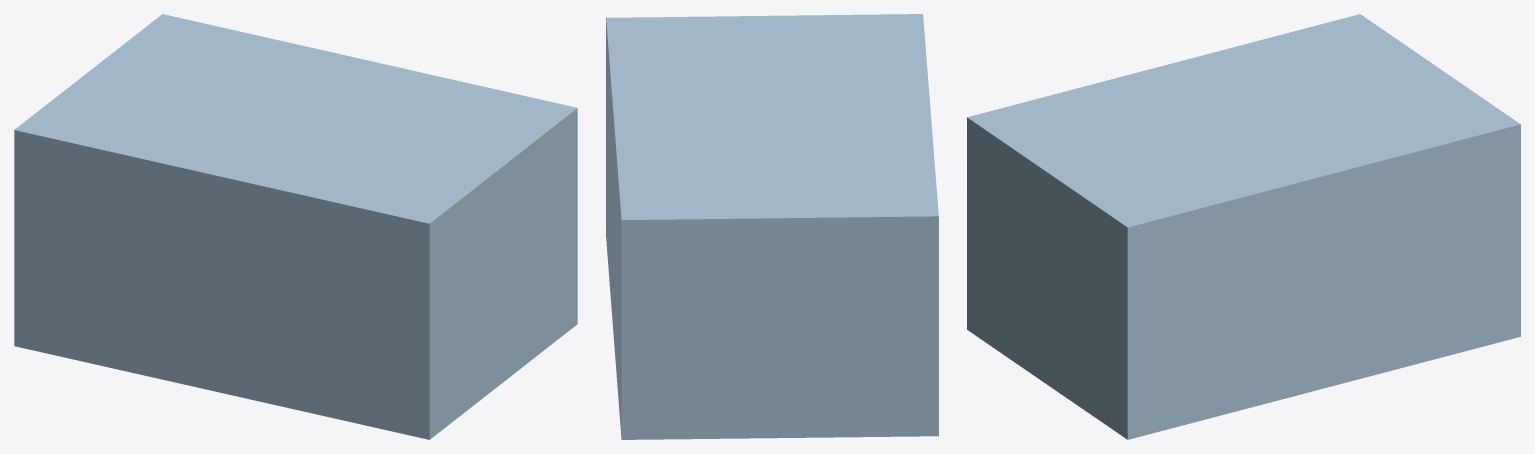
The model's file is osm_way_223859814.glb.
3 views of the same model, side by side, from view 1: azimuth 30°, elevation 25°; view 2: azimuth 150°, elevation 25°; view 3: azimuth 270°, elevation 25° (orthographic). The views are drawn at different scales.
Visible parts, largest first — view 1: osm_way_223859814; view 2: osm_way_223859814; view 3: osm_way_223859814.
Boxes of the visible parts, bbox=[...] form: osm_way_223859814: bbox=[14, 14, 577, 439]; osm_way_223859814: bbox=[606, 14, 938, 439]; osm_way_223859814: bbox=[967, 14, 1520, 439].
Size of the model in its own units: 41.4 by 19.2 by 45.36.
